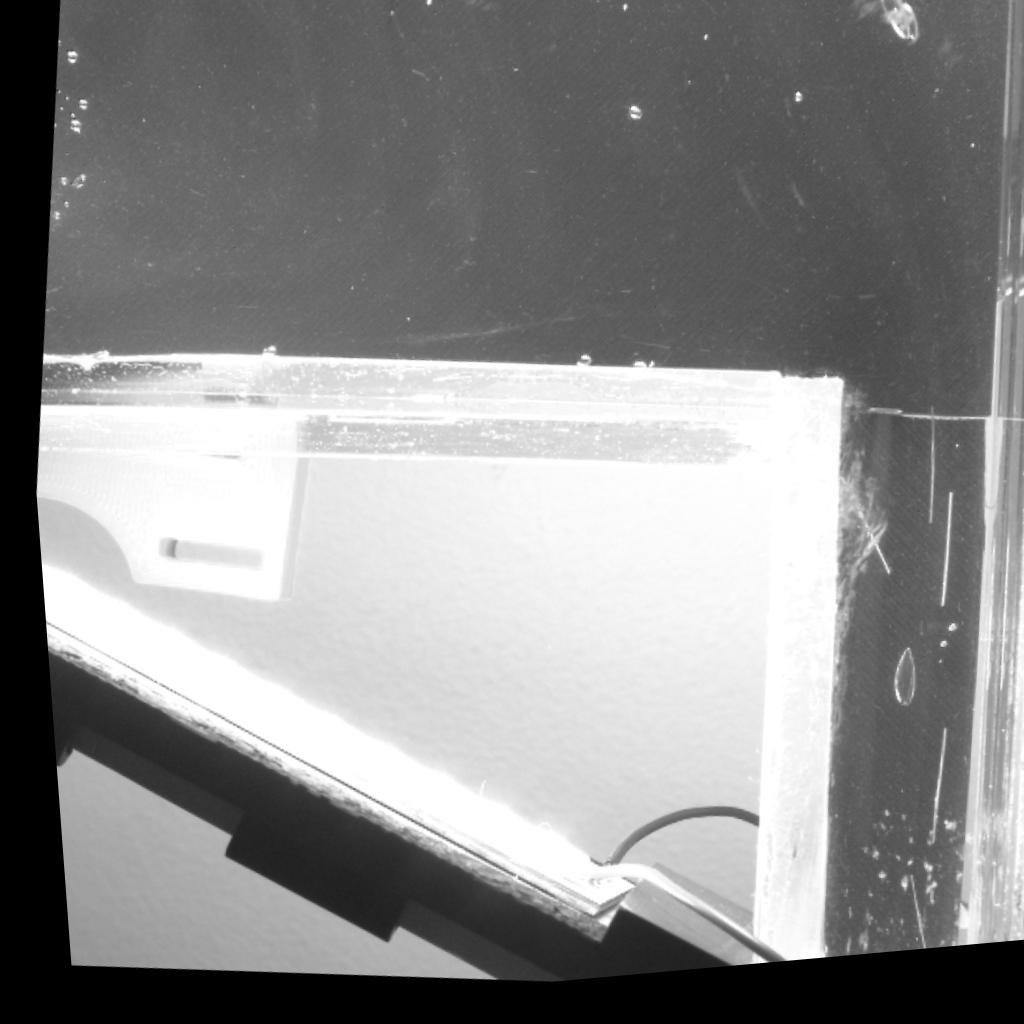Fiber: (829, 483, 883, 596), (909, 743, 942, 866), (919, 506, 949, 626), (909, 422, 930, 550), (890, 885, 913, 965)
